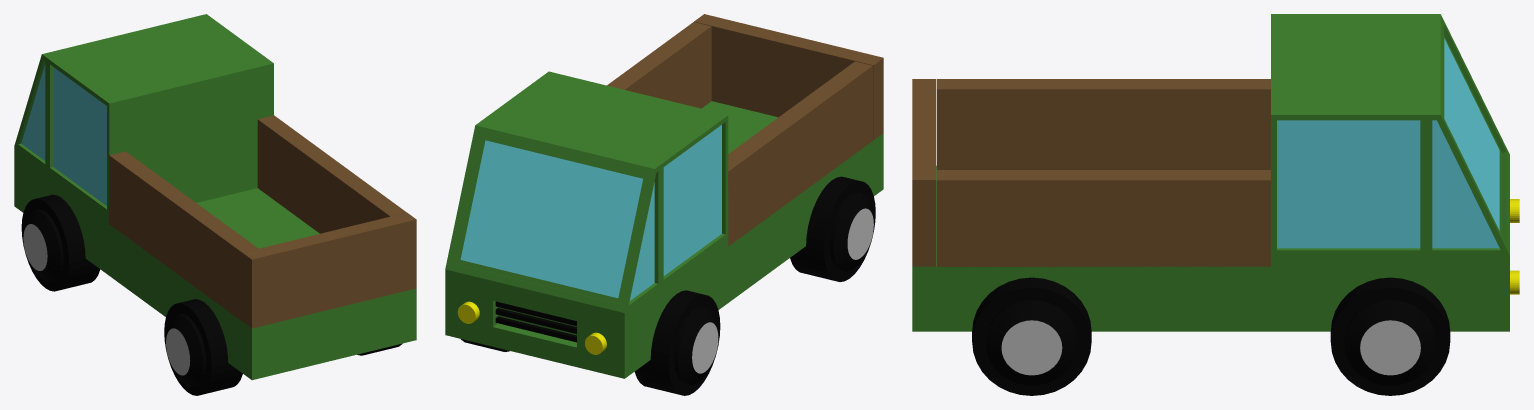
The model's file is truck.fbx.
The picture shows the model from 3 angles, left to right: view 1: azimuth 30°, elevation 25°; view 2: azimuth 150°, elevation 25°; view 3: azimuth 270°, elevation 25°; orthographic projection. The views are drawn at different scales.
Parts seen in each view (by area): view 1: Cabin, platform, load_back, load_left, load_right; view 2: Cabin, platform, load_left, load_back, load_right; view 3: Cabin, platform, load_right, load_left, load_back.
Boxes of the visible parts, bbox=[...] form: Cabin: bbox=[14, 14, 273, 275]; platform: bbox=[21, 188, 416, 395]; load_back: bbox=[242, 212, 416, 328]; load_left: bbox=[109, 151, 258, 321]; load_right: bbox=[257, 115, 406, 233]; Cabin: bbox=[445, 71, 728, 378]; platform: bbox=[461, 101, 883, 395]; load_left: bbox=[728, 61, 872, 246]; load_back: bbox=[694, 14, 883, 140]; load_right: bbox=[607, 22, 711, 108]; Cabin: bbox=[1271, 14, 1519, 331]; platform: bbox=[912, 165, 1450, 395]; load_right: bbox=[937, 170, 1270, 266]; load_left: bbox=[937, 79, 1270, 169]; load_back: bbox=[912, 79, 936, 266].
Bounding box in the file's own units: 264 × 250 × 508.
